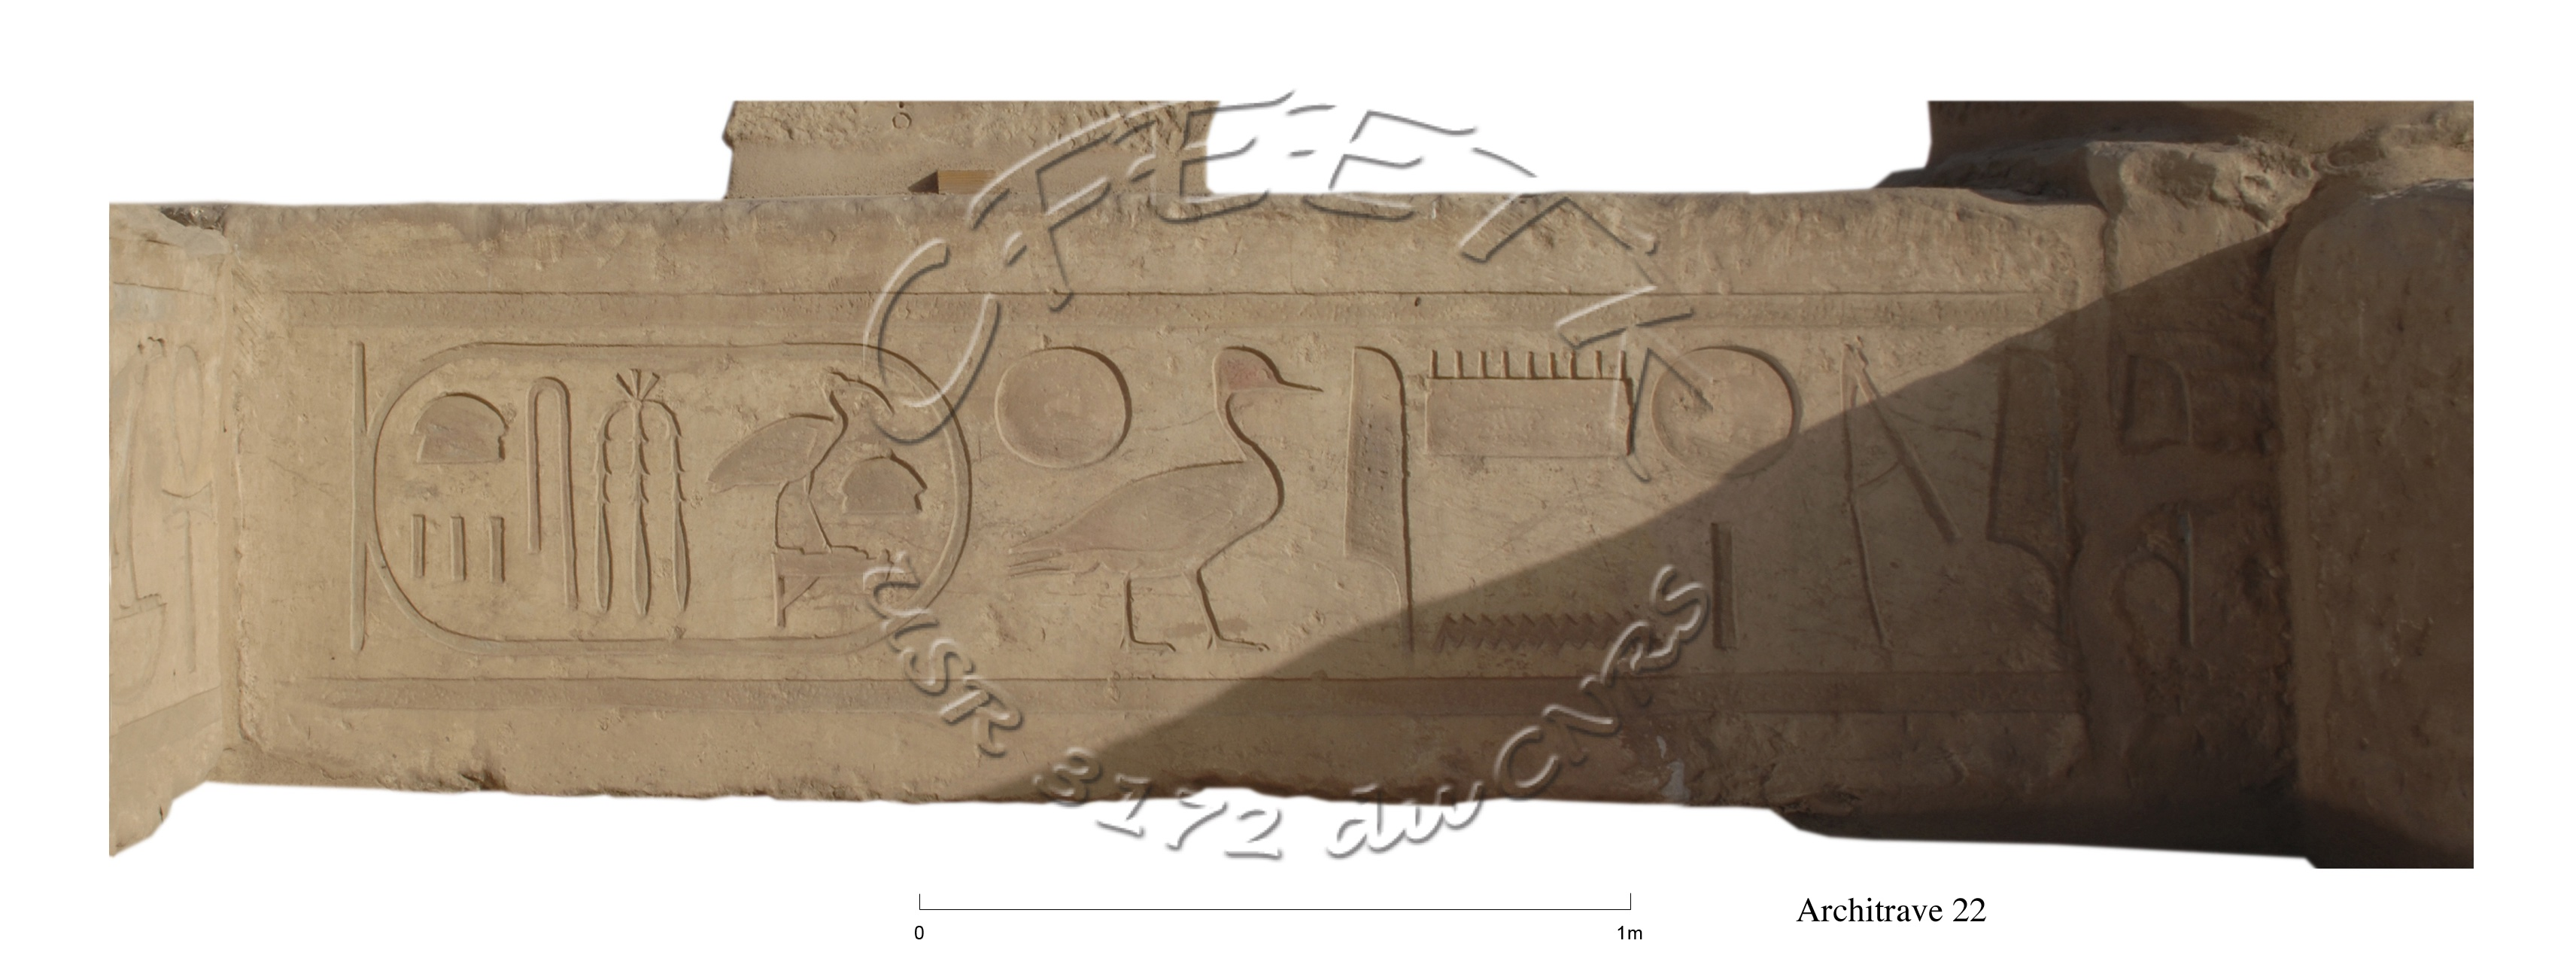M17: (1971, 326, 2121, 674), (2103, 342, 2242, 684), (1331, 332, 1454, 674)
N35: (1408, 590, 1676, 691)
